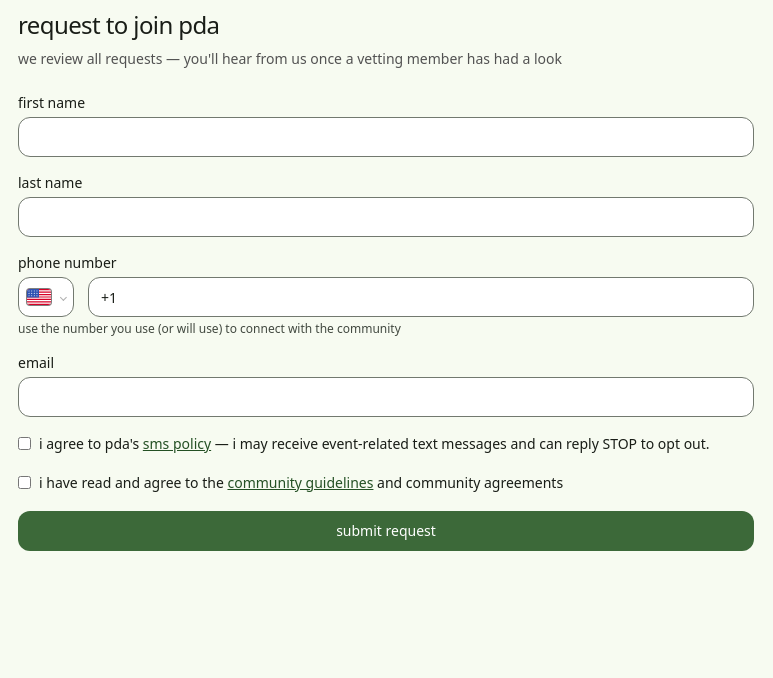
it: JoinScreen › shows validation error when required fields are empty on submit
Step 1. Click the button "submit request" → coordinates (386, 530), box [18,510,754,550]
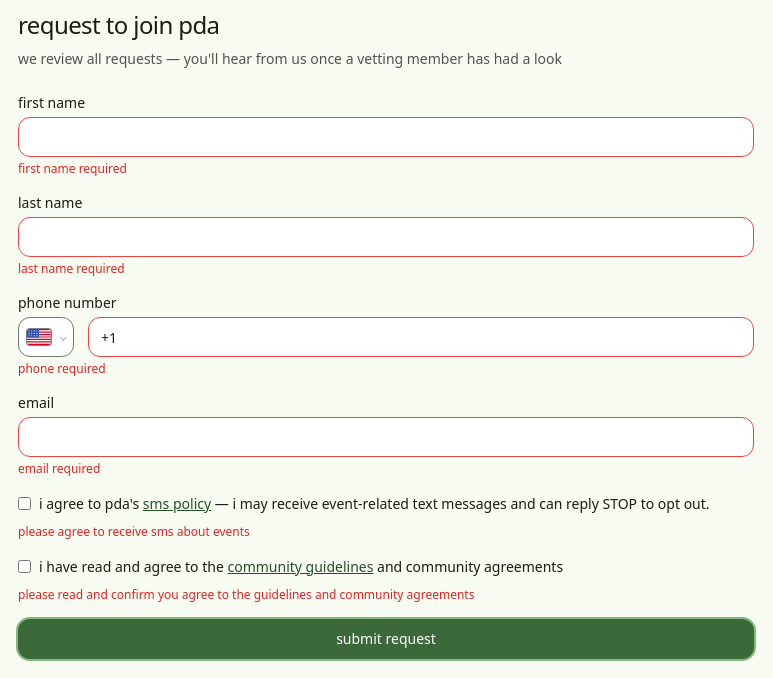
Expected: the text "first name required" is shown, [18,160,127,177]
Expected: the text "last name required" is shown, [18,260,124,277]
Expected: the text "phone required" is shown, [18,360,106,377]
